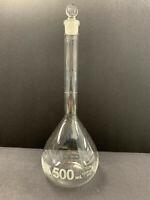Volumetric flask: (22, 4, 103, 194)
